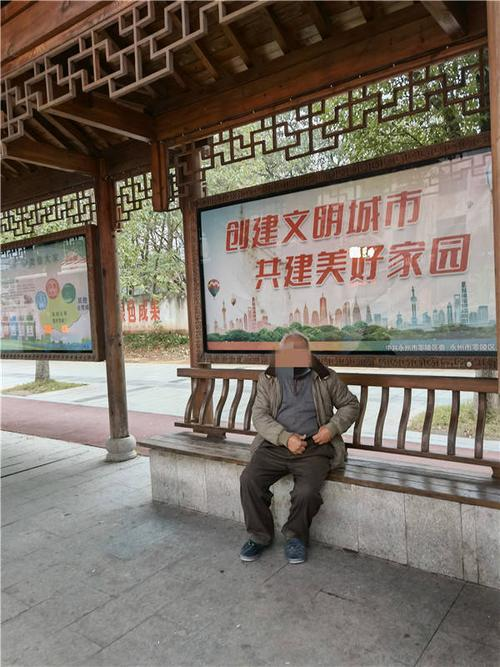sitting: (233, 325, 362, 572)
